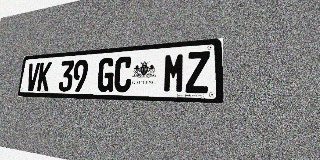3: (58, 60, 75, 91)
9: (71, 59, 89, 92)
C: (113, 56, 133, 92)
G: (96, 57, 115, 92)
K: (37, 62, 52, 91)
M: (163, 52, 186, 93)
V: (25, 63, 40, 91)
Z: (185, 51, 210, 93)
